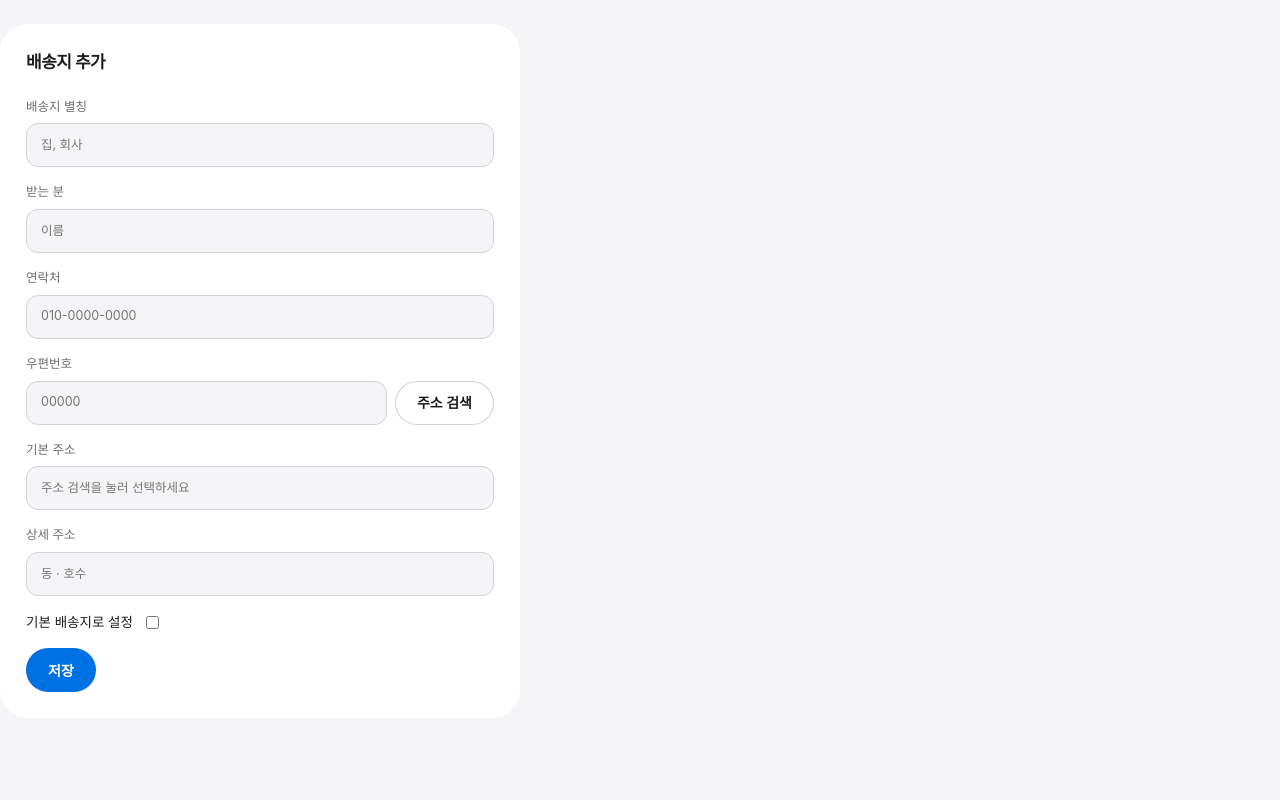
AddressForm › opens the postcode dialog when the search button is clicked
Click the button "주소 검색". click: (444, 402)
box: [395, 380, 494, 424]
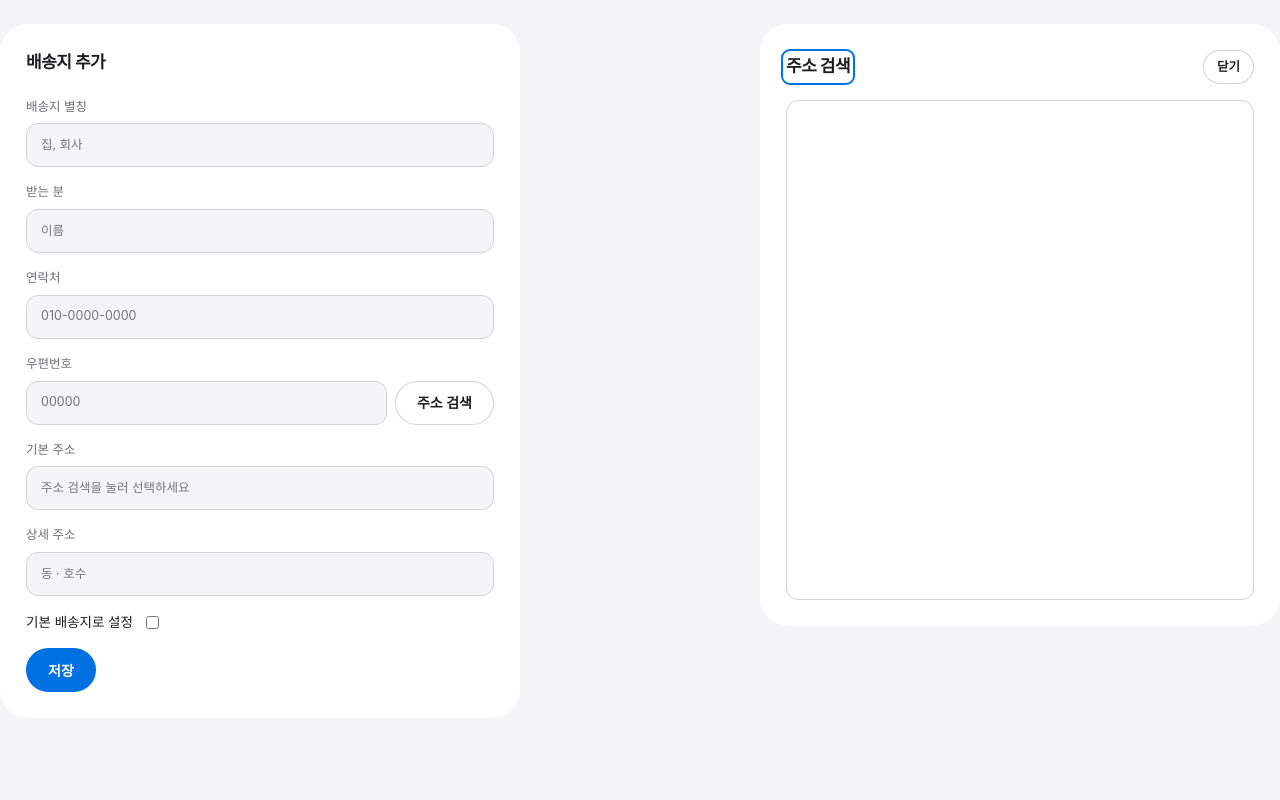
Result: the dialog is shown at [760, 24, 1279, 626]
